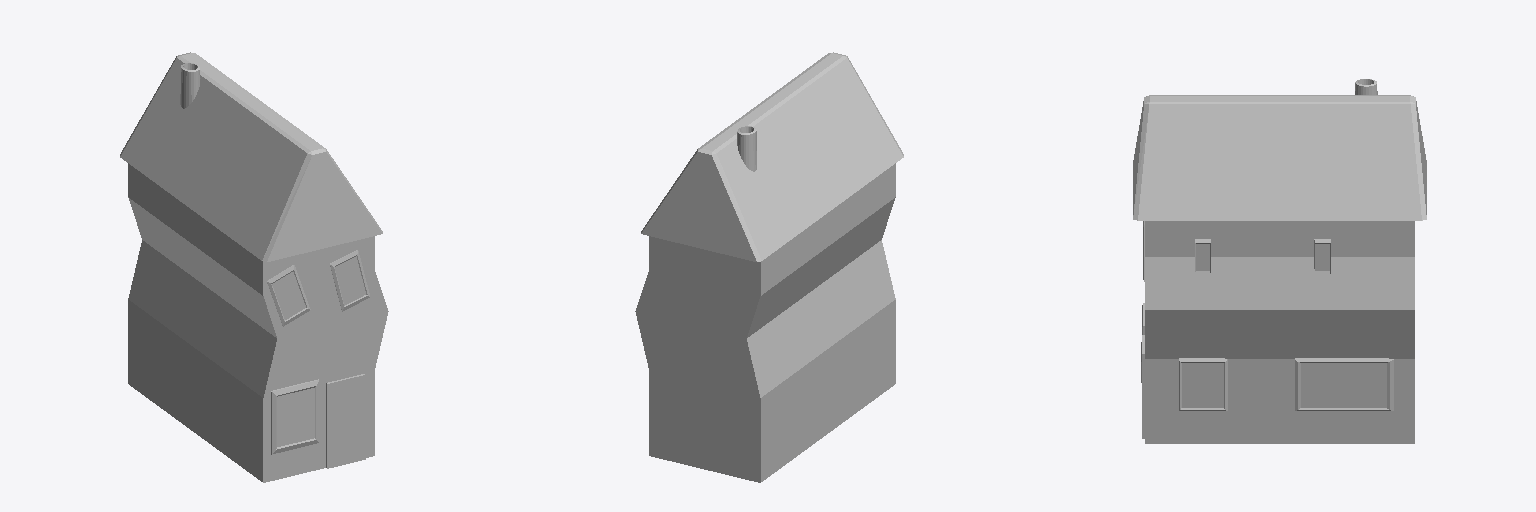
Rendered from house_model6.obj.
3 renders of one model, left to right at view 1: azimuth 30°, elevation 25°; view 2: azimuth 150°, elevation 25°; view 3: azimuth 270°, elevation 25°, orthographic.
Parts seen in each view (by area): view 1: house004; view 2: house004; view 3: house004.
Boxes of the visible parts, x1=… form: house004: x1=120, y1=52, x2=388, y2=482; house004: x1=635, y1=52, x2=903, y2=482; house004: x1=1133, y1=79, x2=1426, y2=443.
Bounding box in the file's own units: 49.91 × 120 × 97.8.